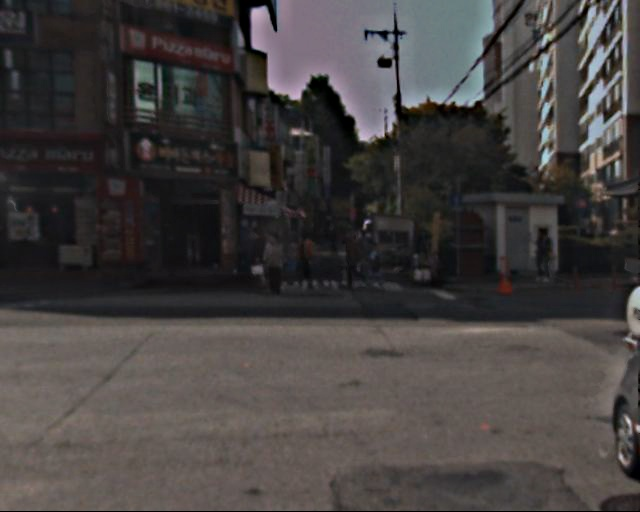person: (248, 229, 274, 293), (344, 230, 369, 290), (263, 236, 286, 292), (535, 228, 558, 283), (296, 230, 317, 280), (368, 247, 387, 294), (328, 224, 342, 258)
